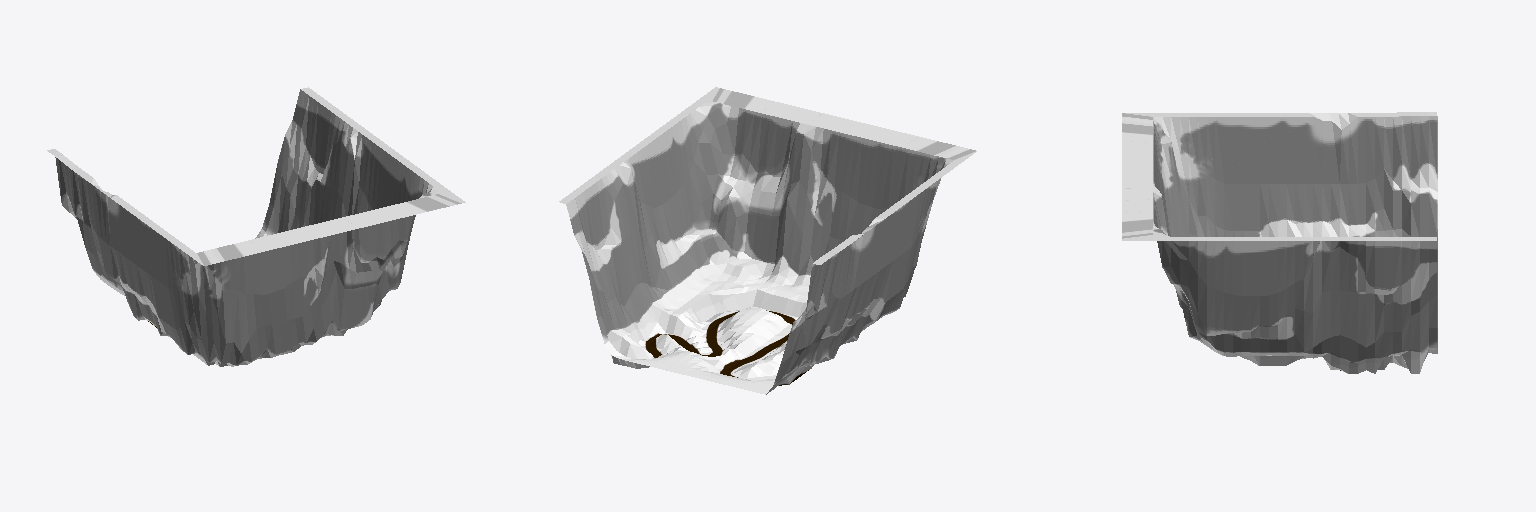
The picture shows the model from 3 angles: view 1: azimuth 30°, elevation 25°; view 2: azimuth 150°, elevation 25°; view 3: azimuth 270°, elevation 25°; orthographic projection.
Visible parts, largest first — view 1: Plane_Plane.003; view 2: Plane_Plane.003; view 3: Plane_Plane.003.
Boxes of the visible parts, x1,y1,x2,y2 form: Plane_Plane.003: [47, 87, 465, 366]; Plane_Plane.003: [559, 87, 976, 394]; Plane_Plane.003: [1122, 112, 1437, 373].
Size of the model in its own units: 213 by 125 by 222.
1 materials, 1 textured.